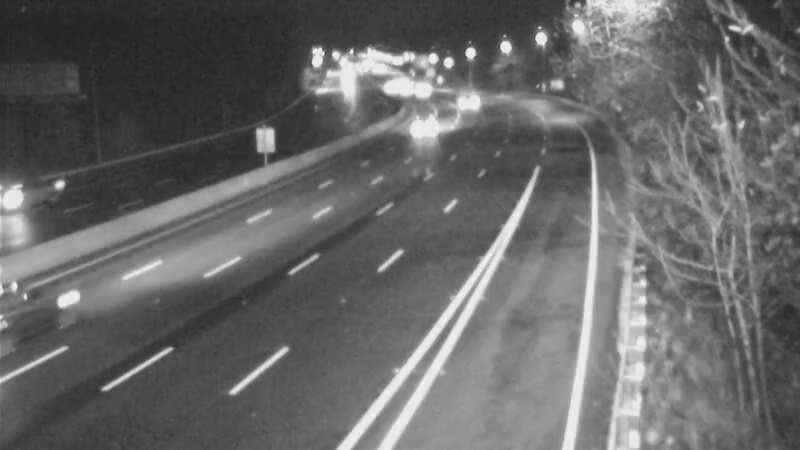vehicle: (1, 257, 98, 367), (1, 159, 70, 239), (394, 65, 444, 115), (442, 73, 492, 123), (398, 102, 448, 152)
